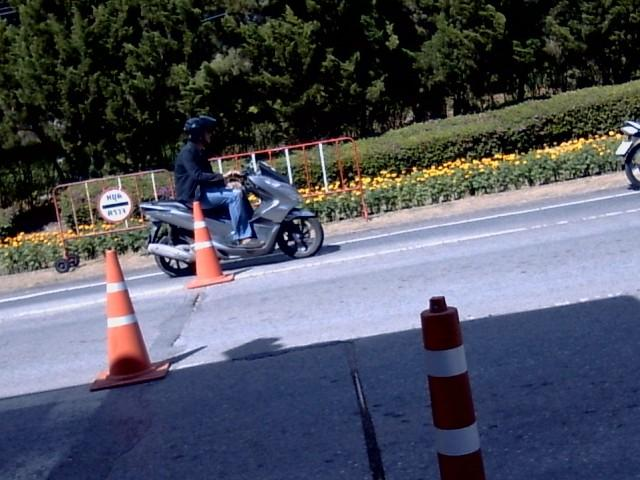helmet: (184, 115, 216, 145)
motor: (205, 161, 323, 259), (140, 200, 198, 276)
person: (175, 115, 262, 247)
